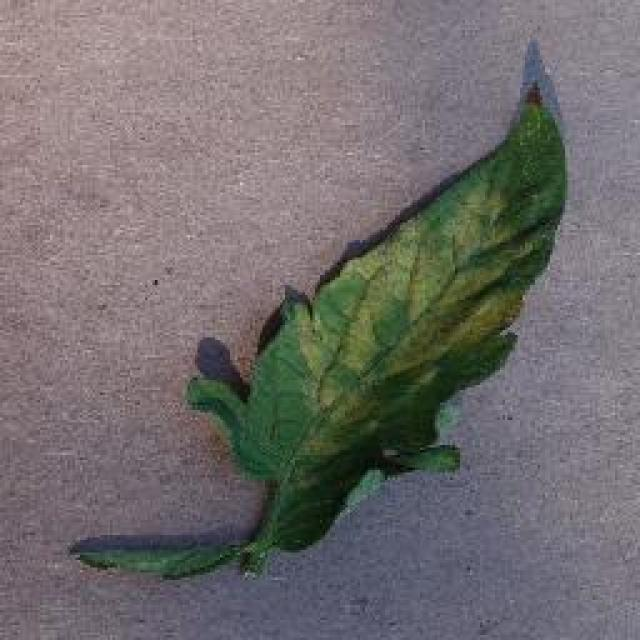Tomato mold leaf: (184, 81, 574, 569)
